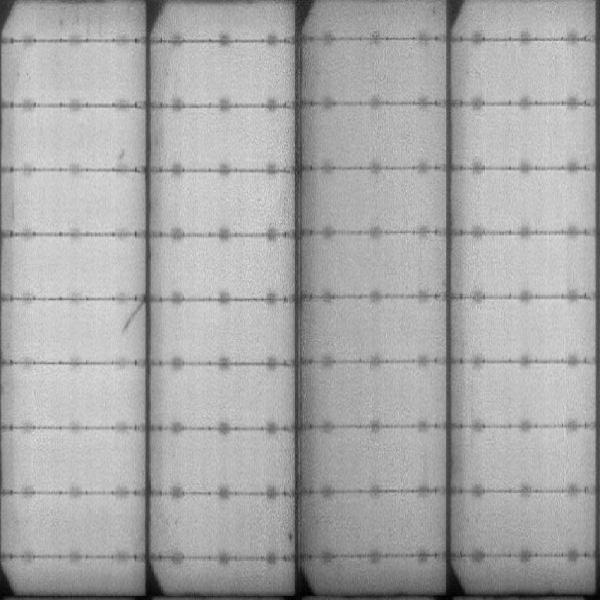scratch: (118, 301, 147, 331)
